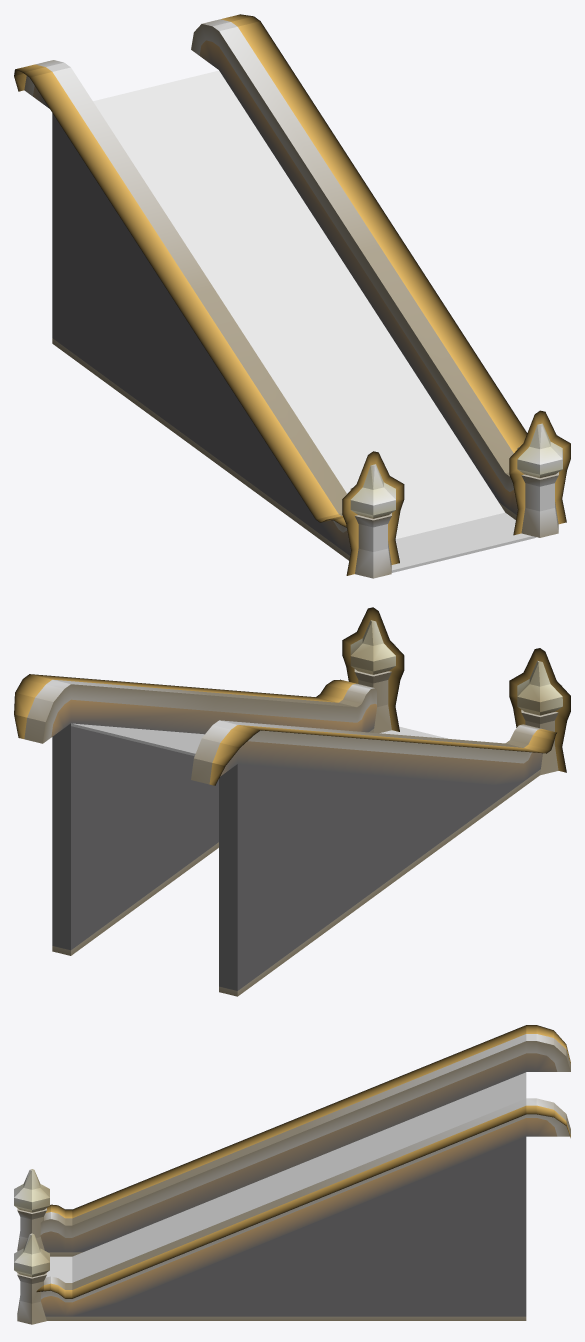
Rendered from Stair.gltf.
The picture shows the model from 3 angles, top to bottom: view 1: azimuth 30°, elevation 25°; view 2: azimuth 150°, elevation 25°; view 3: azimuth 270°, elevation 25°; orthographic projection. The views are drawn at different scales.
Parts seen in each view (by area): view 1: StairRailing, StairSlope; view 2: StairRailing, StairSlope; view 3: StairRailing, StairSlope.
Part boxes in pixels (<box>): StairRailing: <box>14,14,570,578</box>; StairSlope: <box>93,70,504,538</box>; StairRailing: <box>14,607,570,996</box>; StairSlope: <box>71,723,204,755</box>; StairRailing: <box>14,1025,570,1324</box>; StairSlope: <box>72,1072,526,1282</box>.
Size of what is drawn, in the model's own units: 6.24 by 7.08 by 16.42.
